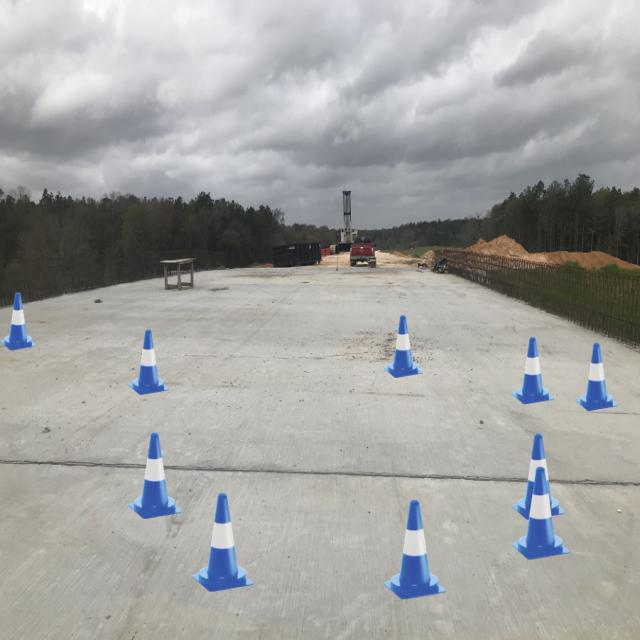blue_cone: (192, 493, 254, 592), (384, 500, 446, 599), (512, 466, 570, 560), (512, 434, 566, 520), (128, 432, 182, 518), (575, 343, 618, 411), (511, 337, 554, 404), (128, 329, 169, 395), (383, 315, 422, 378), (0, 292, 36, 350)
